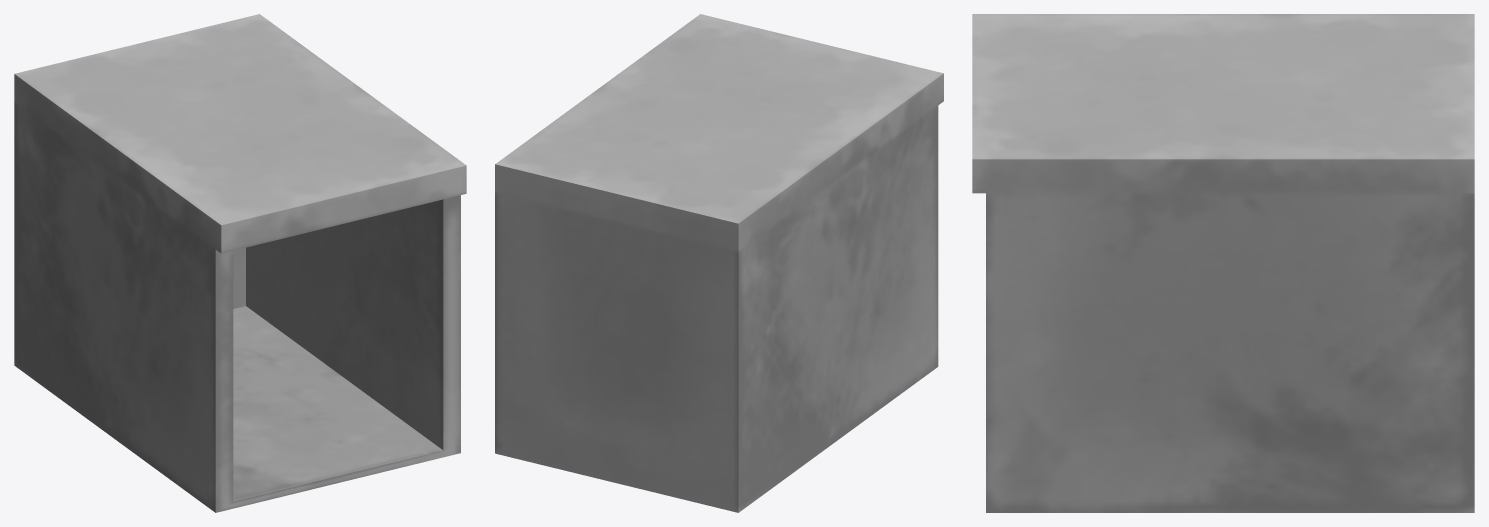
File: SM_Cabinet__6.fbx
3 renders of one model, left to right at view 1: azimuth 30°, elevation 25°; view 2: azimuth 150°, elevation 25°; view 3: azimuth 270°, elevation 25°, orthographic. The views are drawn at different scales.
Parts seen in each view (by area): view 1: Kitchen; view 2: Kitchen; view 3: Kitchen.
Boxes of the visible parts, x1,y1,x2,y2 form: Kitchen: (14, 14, 466, 512); Kitchen: (495, 14, 943, 512); Kitchen: (972, 14, 1474, 512).
Bounding box in the file's own units: 1.26 × 1.43 × 1.84.
1 material, 1 textured.
